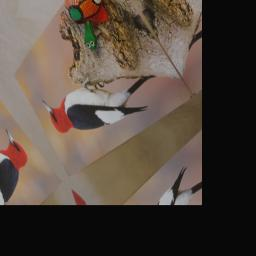Woodpecker: (38, 32, 168, 166)
